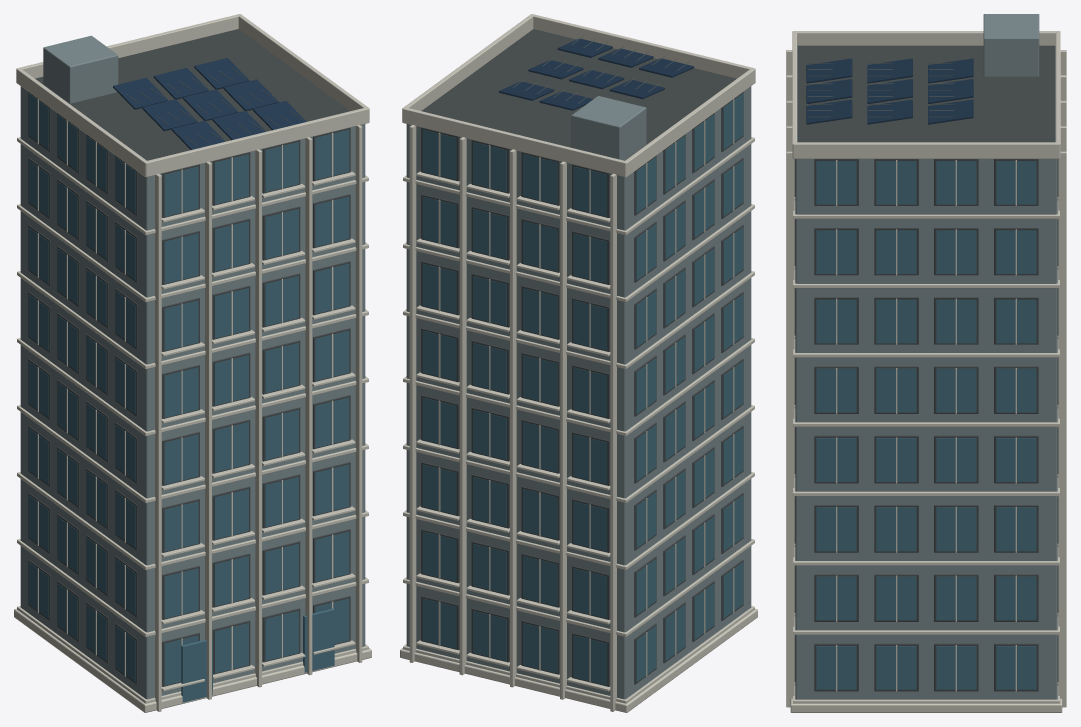
Rendered from office_fins.glb.
3 views of the same model, side by side, from view 1: azimuth 30°, elevation 25°; view 2: azimuth 150°, elevation 25°; view 3: azimuth 270°, elevation 25° (orthographic). The views are drawn at different scales.
Parts seen in each view (by area): view 1: WindowGlassGeometry, BuildingWallGeometry, ArchitecturalTrimGeometry, RoofAndFrameGeometry, SolarCellsGeometry; view 2: WindowGlassGeometry, BuildingWallGeometry, ArchitecturalTrimGeometry, RoofAndFrameGeometry, SolarCellsGeometry; view 3: BuildingWallGeometry, WindowGlassGeometry, ArchitecturalTrimGeometry, RoofAndFrameGeometry, SolarCellsGeometry, RailMetalGeometry.
Part boxes in pixels (x1,y1,x2,y2): WindowGlassGeometry: (28,93,349,702); BuildingWallGeometry: (20,35,365,699); ArchitecturalTrimGeometry: (14,14,371,712); RoofAndFrameGeometry: (28,29,350,686); SolarCellsGeometry: (113,58,306,149); WindowGlassGeometry: (422,93,743,685); BuildingWallGeometry: (406,86,751,699); ArchitecturalTrimGeometry: (400,14,757,712); RoofAndFrameGeometry: (421,29,743,686); SolarCellsGeometry: (499,38,694,110); BuildingWallGeometry: (795,14,1057,699); WindowGlassGeometry: (816,161,1036,689); ArchitecturalTrimGeometry: (786,31,1066,712); RoofAndFrameGeometry: (794,45,1058,691); SolarCellsGeometry: (806,58,973,124); RailMetalGeometry: (807,63,953,117).
Size of the model in its own units: 11.2 by 27 by 11.54.
